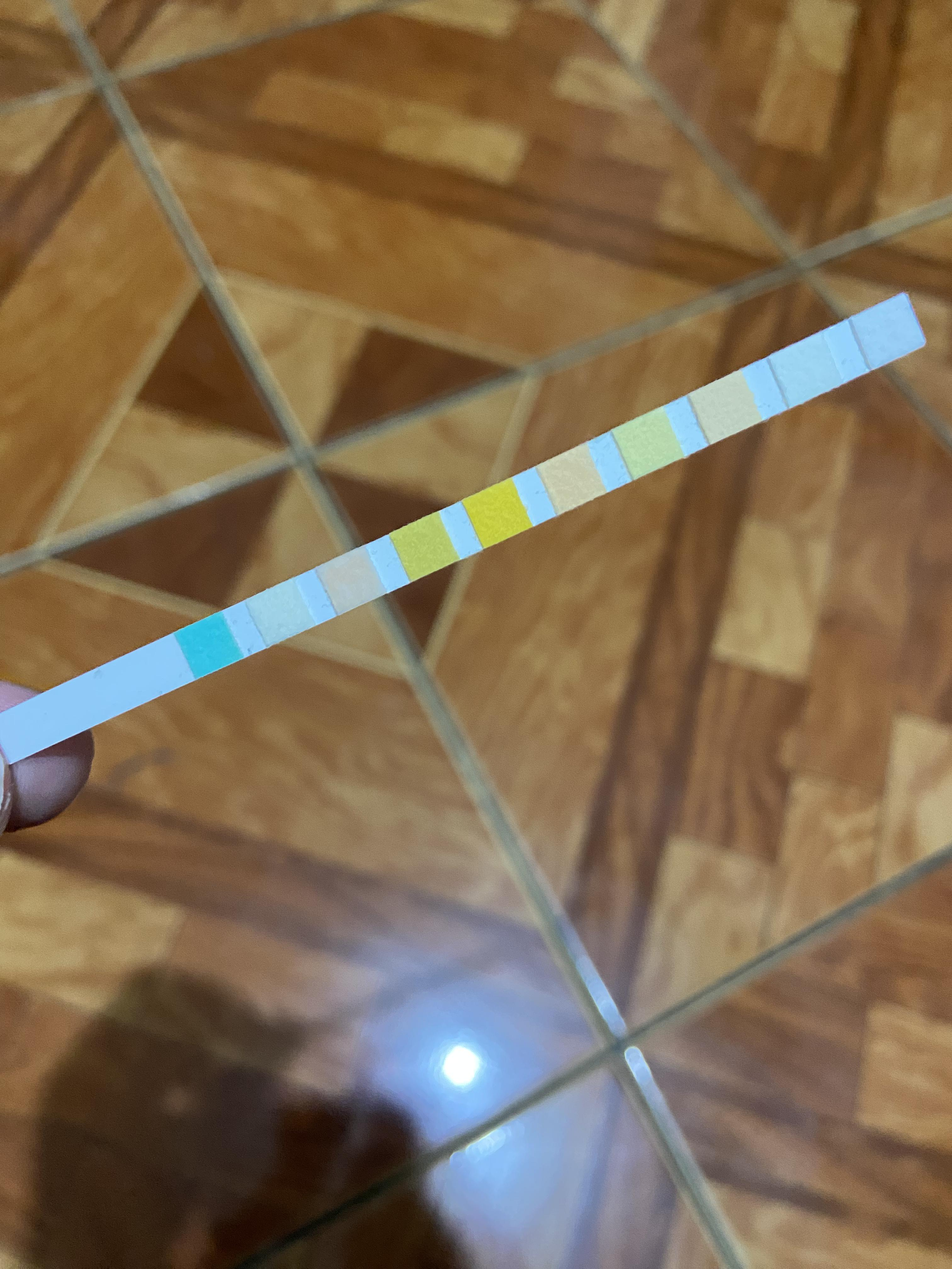Bilirubin: (256, 594, 305, 630)
Blood: (478, 493, 519, 535)
Glucose: (185, 627, 232, 662)
Ketone: (327, 561, 374, 598)
Leukocytes: (863, 311, 913, 354)
Nitrite: (781, 349, 830, 388)
Protein: (628, 421, 670, 464)
SpGravity: (401, 527, 446, 562)
Urobilinogen: (705, 385, 748, 430)
pH: (550, 459, 594, 497)
strip: (4, 293, 930, 761)
